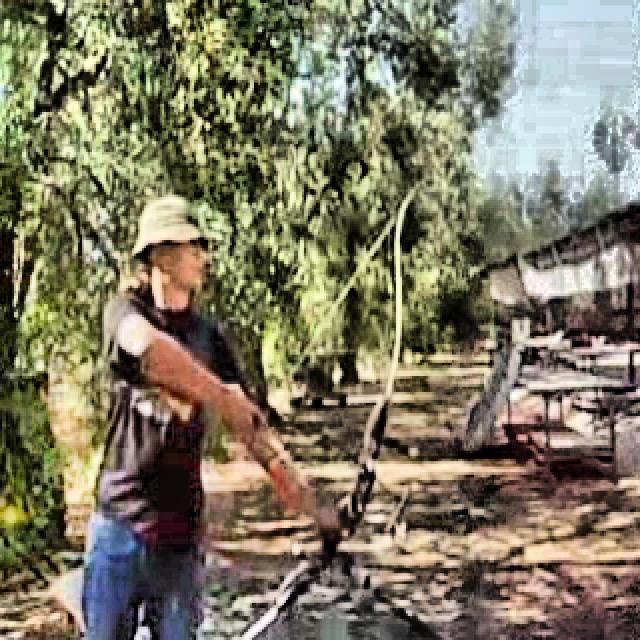I: (63, 178, 335, 640)
